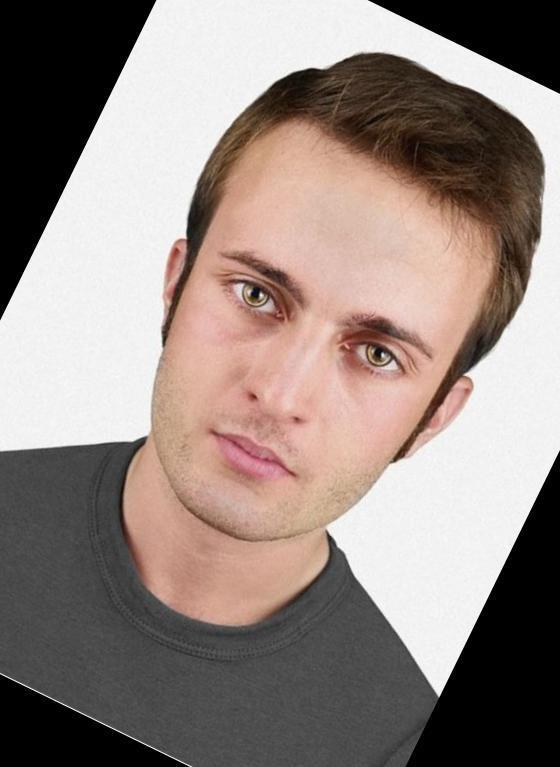Sober: (184, 145, 434, 520)
